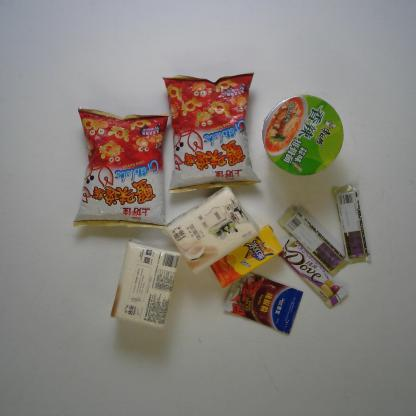Chocolate: (275, 204, 353, 278), (276, 234, 350, 310), (329, 181, 374, 265)
Drink: (209, 223, 286, 290)
Instant Noodles: (260, 93, 345, 178)
Puffed Food: (72, 103, 172, 233), (160, 70, 263, 194)
Seasoner: (223, 270, 305, 337)
Tissue: (163, 186, 262, 276), (107, 235, 183, 329)
